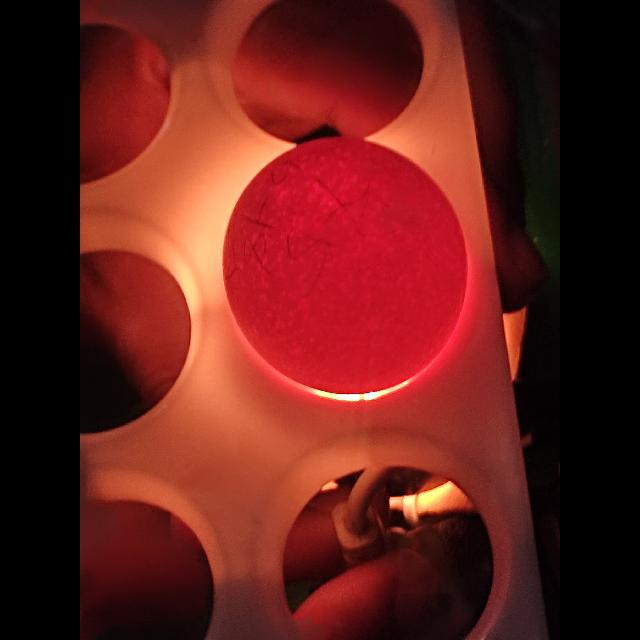Infertile: (226, 142, 469, 396)
